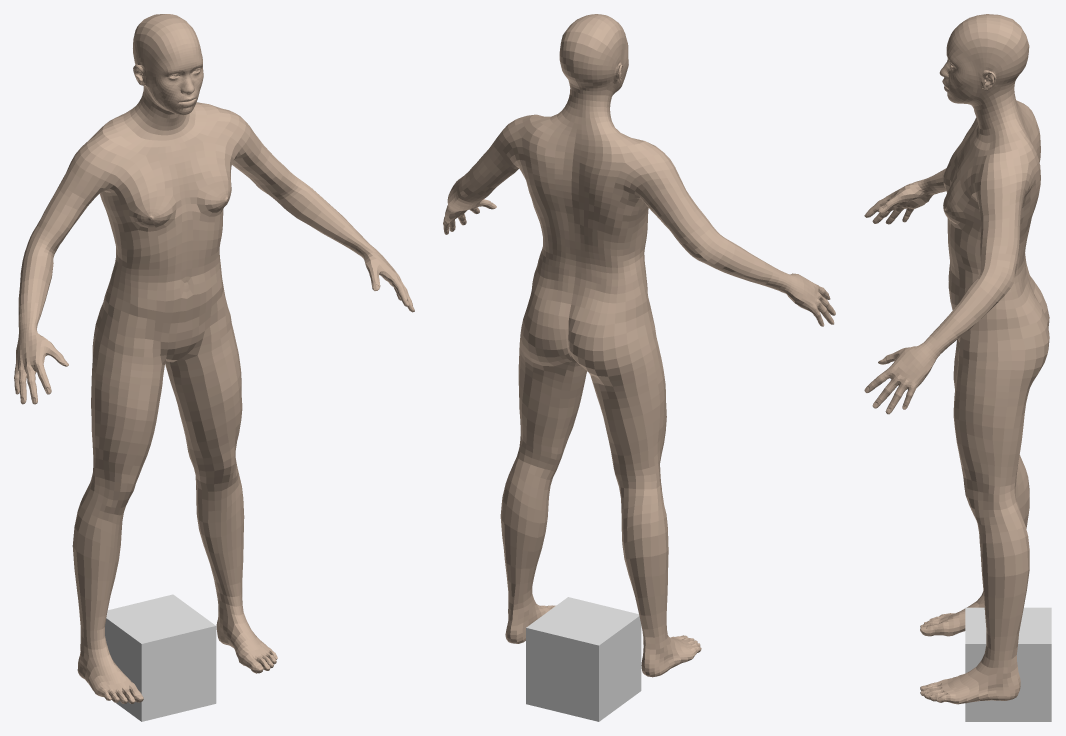
Rendered from fitlook_base.glb.
The picture shows the model from 3 angles, left to right: view 1: azimuth 30°, elevation 25°; view 2: azimuth 150°, elevation 25°; view 3: azimuth 270°, elevation 25°; orthographic projection. The views are drawn at different scales.
Parts seen in each view (by area): view 1: fitlook_base, Cube; view 2: fitlook_base, Cube; view 3: fitlook_base, Cube.
Part boxes in pixels (x1=…): fitlook_base: x1=14, y1=14, x2=414, y2=703; Cube: x1=105, y1=594, x2=216, y2=721; fitlook_base: x1=443, y1=14, x2=835, y2=677; Cube: x1=526, y1=597, x2=641, y2=721; fitlook_base: x1=864, y1=14, x2=1049, y2=704; Cube: x1=965, y1=607, x2=1051, y2=721.
Bounding box in the file's own units: 10.52 × 17.6 × 4.35.
